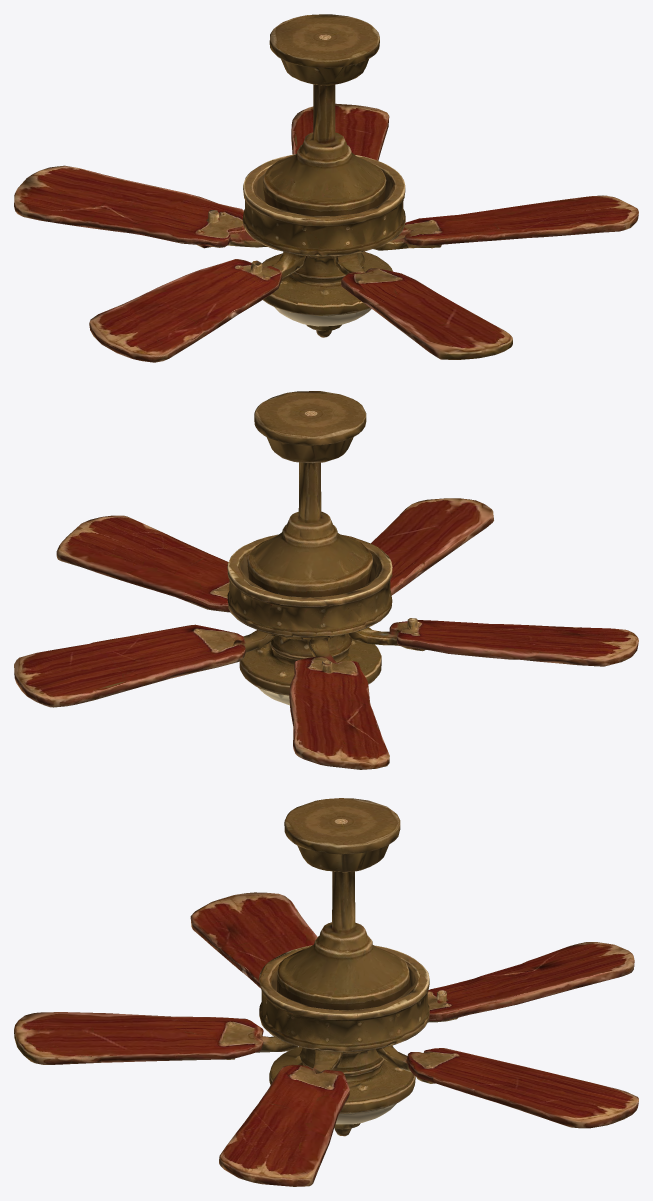
File: d_ceilingfan.glb
3 views of the same model, one above another, from view 1: azimuth 30°, elevation 25°; view 2: azimuth 150°, elevation 25°; view 3: azimuth 270°, elevation 25° (orthographic). The views are drawn at different scales.
Size of the model in its own units: 1.9 by 1.01 by 1.81.
1 material, 1 textured.
